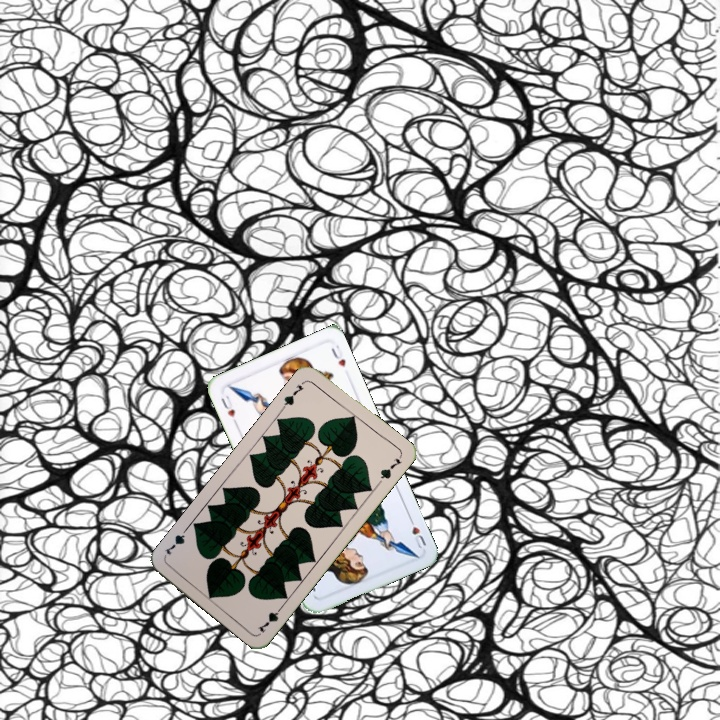G7: (254, 601, 286, 636), (278, 380, 307, 412)
HU: (405, 513, 429, 551), (217, 391, 240, 427)
